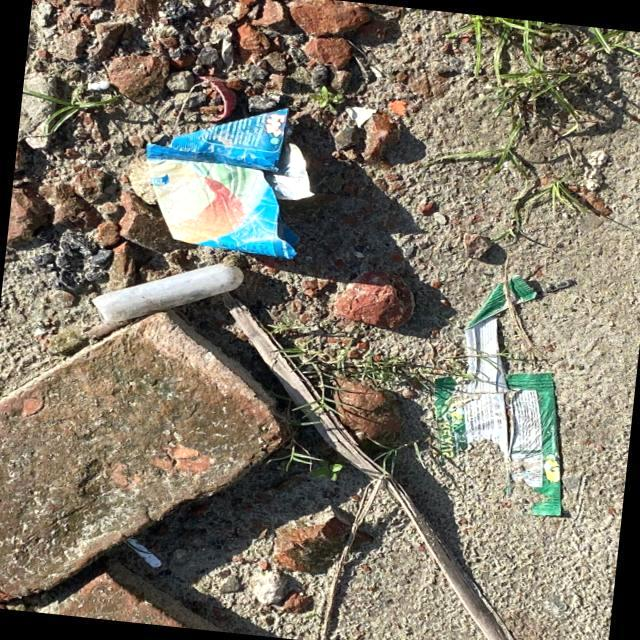packet: (119, 84, 329, 269), (436, 366, 566, 524)
